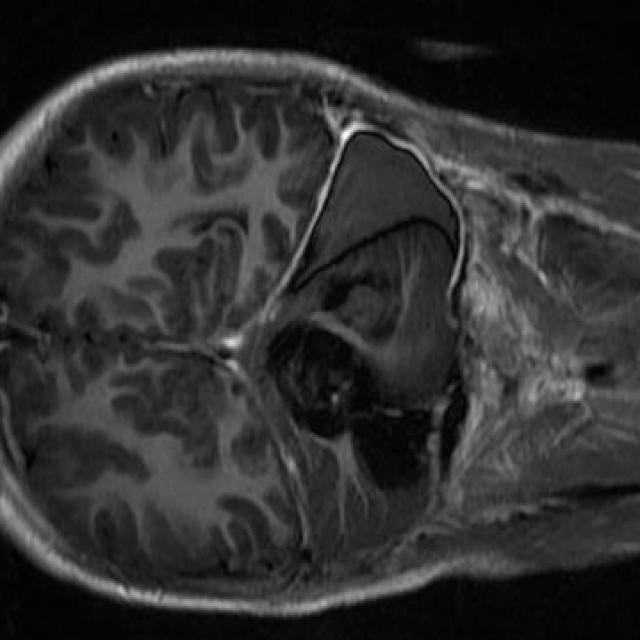glioma: (266, 316, 431, 490)
